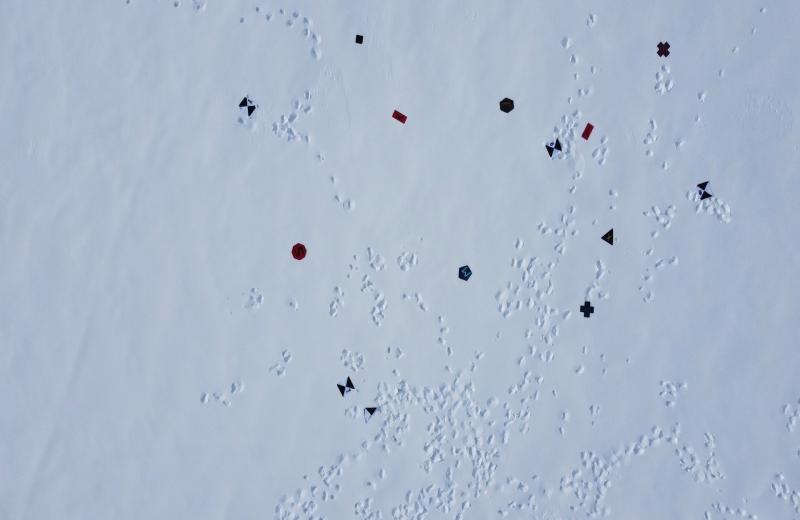Cross: (656, 40, 672, 57), (580, 300, 595, 318)
Hexagon: (499, 97, 515, 116)
Octagon: (290, 241, 308, 261)
Pentagon: (457, 264, 473, 283)
Rectangle: (581, 121, 595, 140), (392, 109, 408, 125)
Square: (355, 34, 364, 45)
Triangle: (601, 227, 616, 246)
